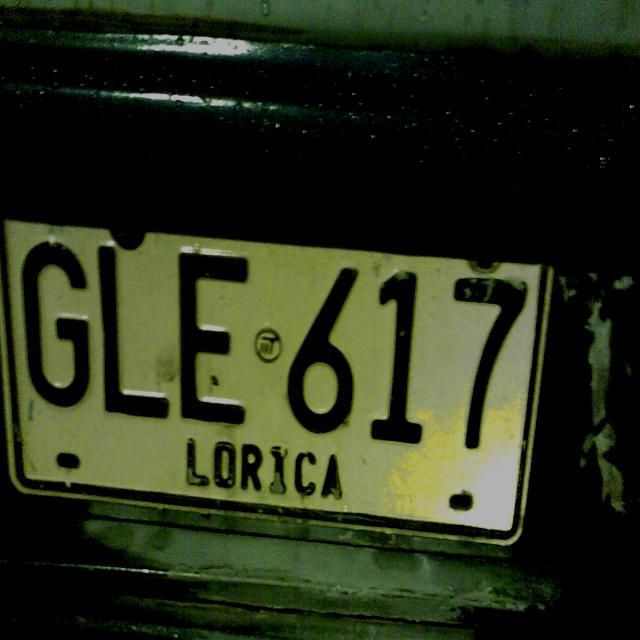placa: (0, 174, 573, 497)
